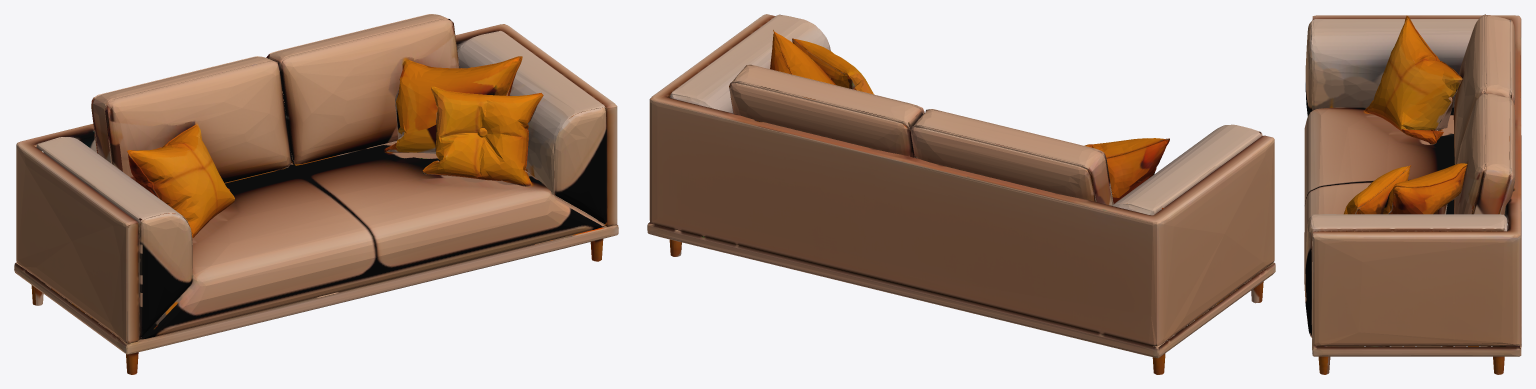
File: edited_mesh.glb
3 views of the same model, side by side, from view 1: azimuth 30°, elevation 25°; view 2: azimuth 150°, elevation 25°; view 3: azimuth 270°, elevation 25° (orthographic). The views are drawn at different scales.
Visible parts, largest first — view 1: solid_001_wire; view 2: solid_001_wire; view 3: solid_001_wire.
Part boxes in pixels (x1,y1,x2,y2): solid_001_wire: (14,14,618,374); solid_001_wire: (647,14,1275,374); solid_001_wire: (1304,14,1521,374).
Size of the model in its own units: 2 by 0.7464 by 0.8192.
1 material, 1 textured.
